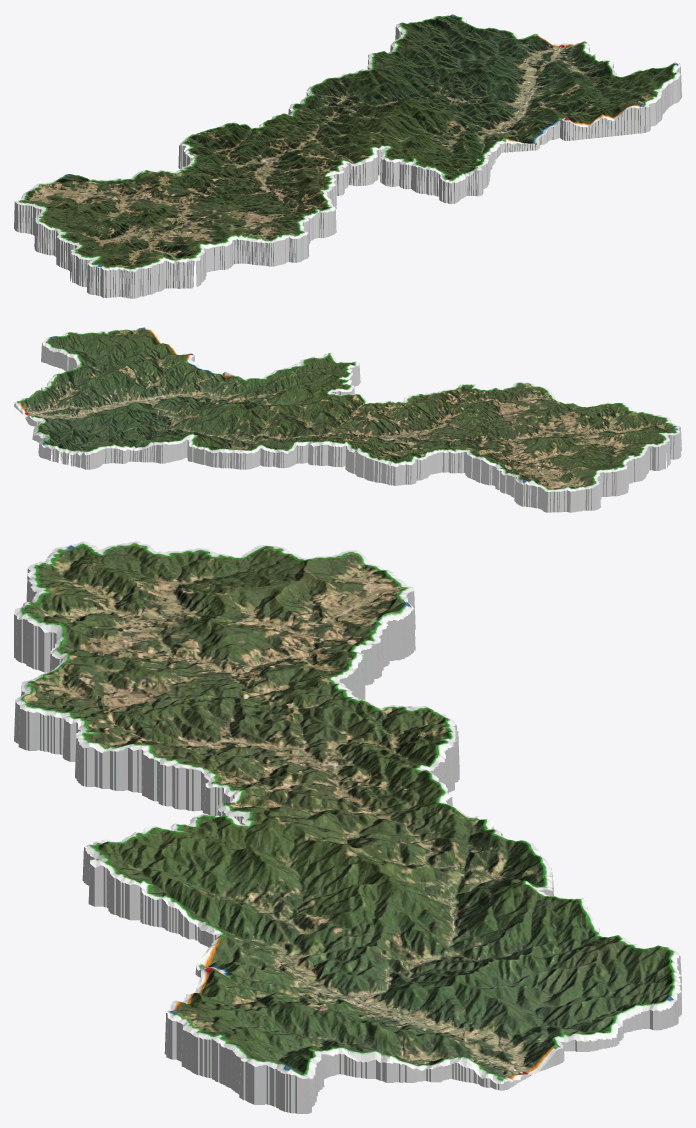
The picture shows the model from 3 angles, top to bottom: view 1: azimuth 30°, elevation 25°; view 2: azimuth 150°, elevation 25°; view 3: azimuth 270°, elevation 25°; orthographic projection. The views are drawn at different scales.
Size of the model in its own units: 1 by 0.0434 by 0.5352.
1 material, 1 textured.
